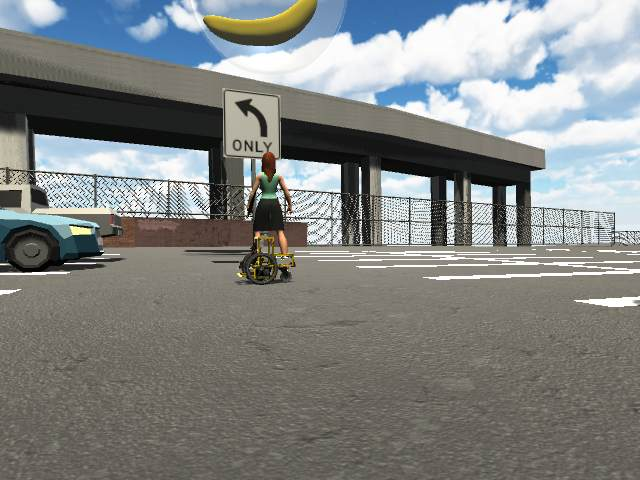arrow_left: (230, 97, 271, 138)
